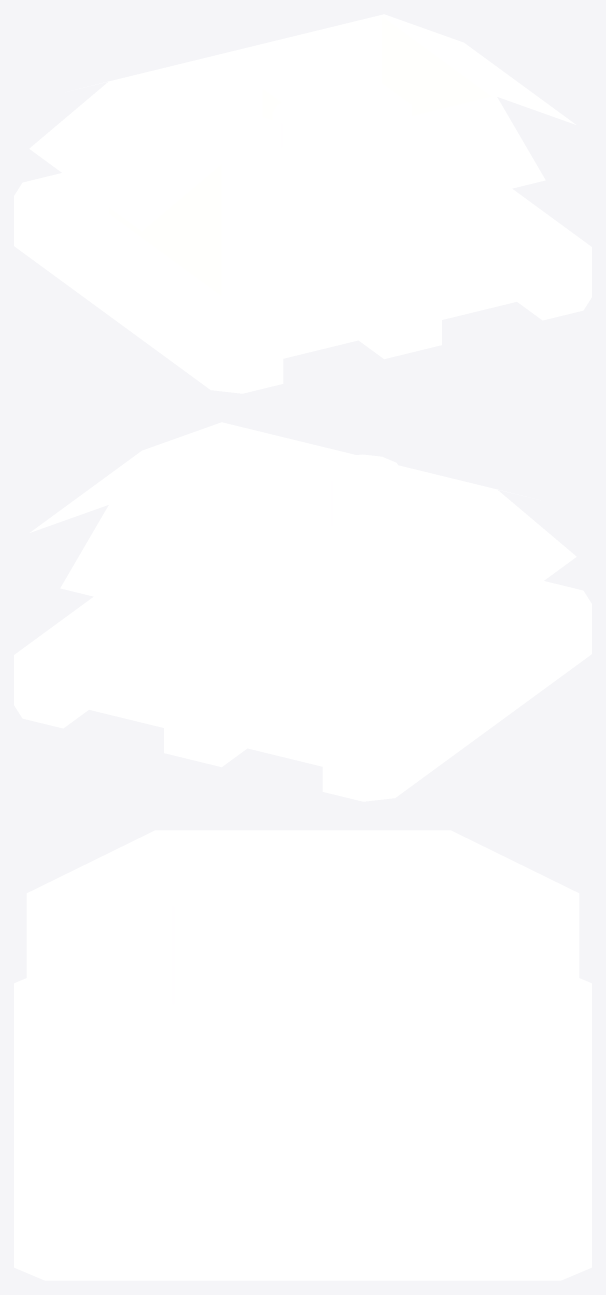
Rendered from Warehouse_Assets_Pallet_Box_Open.glb.
The picture shows the model from 3 angles, top to bottom: view 1: azimuth 30°, elevation 25°; view 2: azimuth 150°, elevation 25°; view 3: azimuth 270°, elevation 25°; orthographic projection. The views are drawn at different scales.
Visible parts, largest first — view 1: Pallet_Box; view 2: Pallet_Box; view 3: Pallet_Box.
Boxes of the visible parts, x1=… form: Pallet_Box: x1=14, y1=14, x2=591, y2=393; Pallet_Box: x1=14, y1=422, x2=591, y2=801; Pallet_Box: x1=14, y1=830, x2=591, y2=1280.
Size of the model in its own units: 2.16 by 0.9013 by 1.9.
